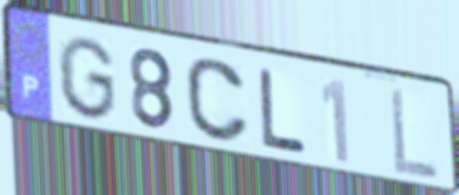1: (320, 76, 351, 165)
8: (127, 46, 178, 133)
C: (182, 55, 253, 146)
G: (54, 33, 119, 124)
L: (388, 84, 441, 182), (256, 64, 310, 156)
